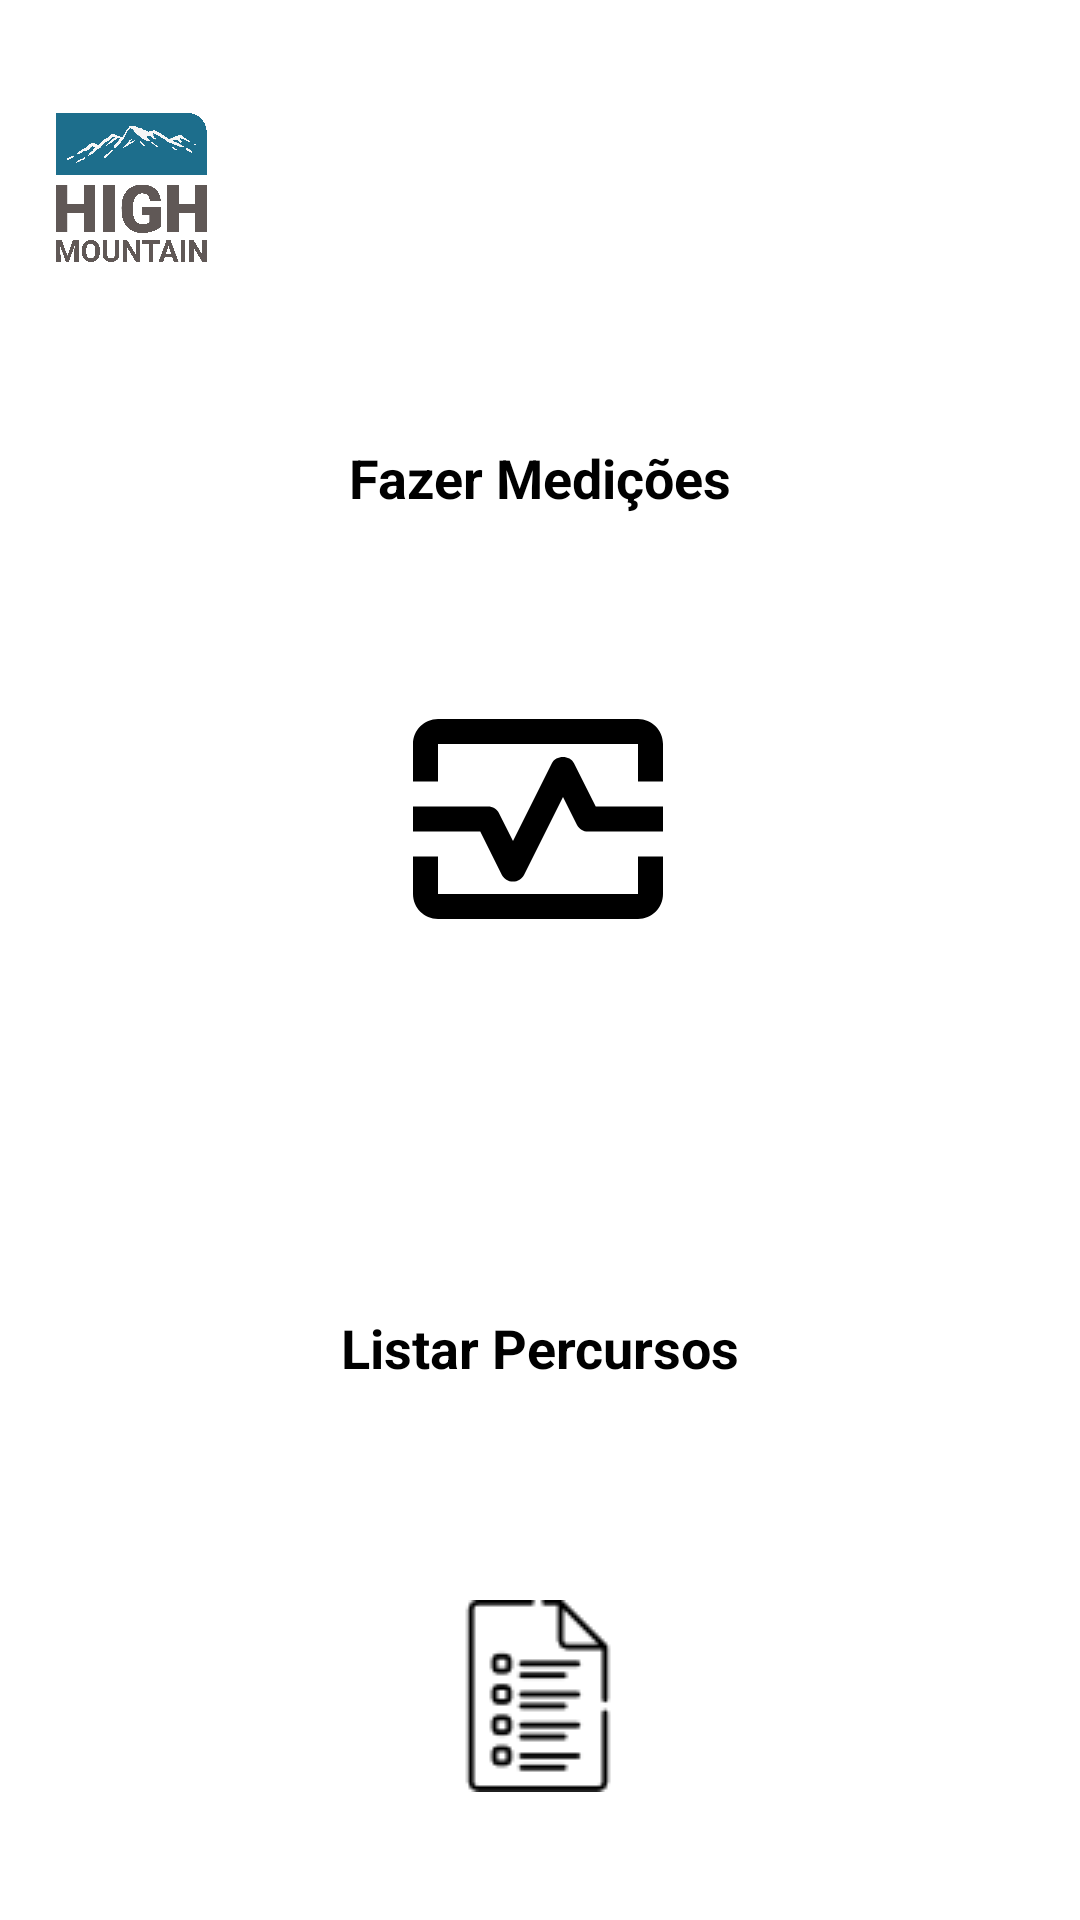

Icon bounding boxes for this 1080x1920 phone screenshot, format bbox(x1, y1, x2, y2):
listicon: bbox(466, 1600, 610, 1792)
monitor heart: bbox(413, 719, 663, 919)
